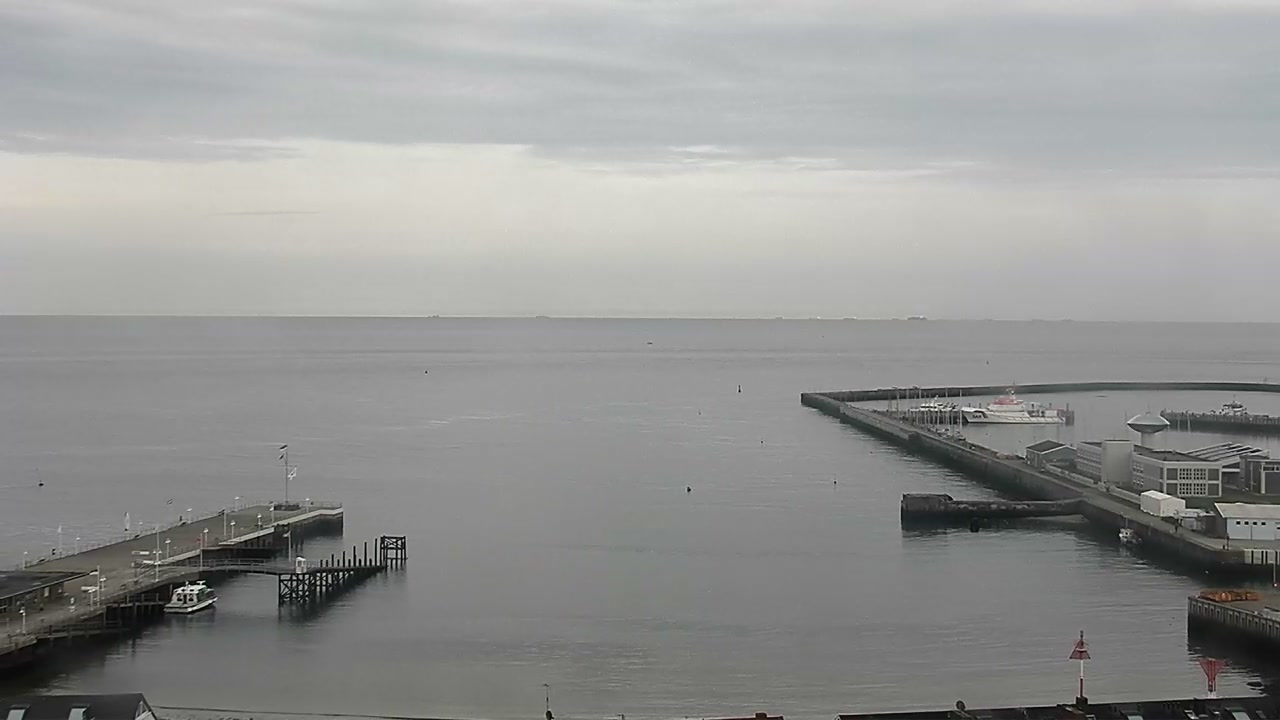human: (1174, 522, 1178, 534)
sea: (962, 386, 1064, 423), (162, 580, 218, 614), (909, 395, 959, 410), (1218, 398, 1249, 416), (951, 402, 965, 441), (1117, 526, 1141, 544)
